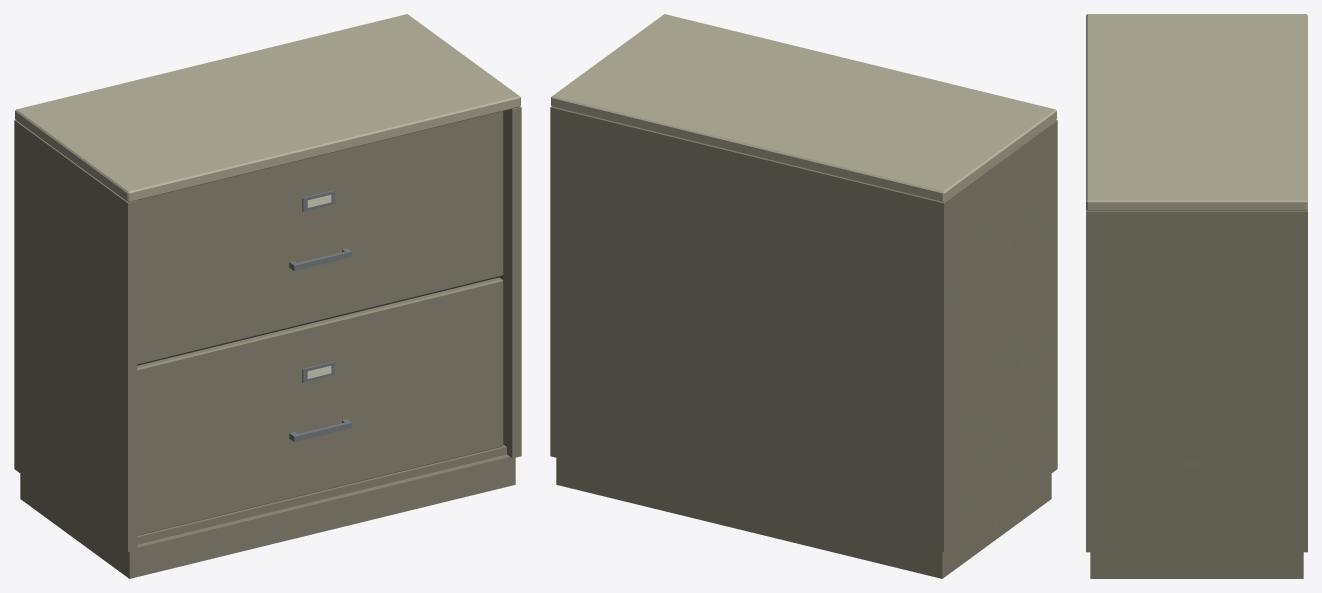
The model's file is cabinet.glb.
The picture shows the model from 3 angles, left to right: view 1: azimuth 30°, elevation 25°; view 2: azimuth 150°, elevation 25°; view 3: azimuth 270°, elevation 25°; orthographic projection. The views are drawn at different scales.
Visible parts, largest first — view 1: core_cabinet; view 2: core_cabinet; view 3: core_cabinet.
Part boxes in pixels (box(x1,y1,x2,y2)): core_cabinet: box(14, 14, 521, 578); core_cabinet: box(550, 14, 1057, 578); core_cabinet: box(1086, 14, 1307, 578).
Size of the model in its own units: 0.9 by 0.85 by 0.45.
5 materials, 5 textured.
